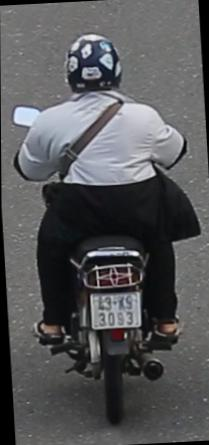LP: (86, 284, 143, 332)
helmet: (56, 28, 131, 104)
